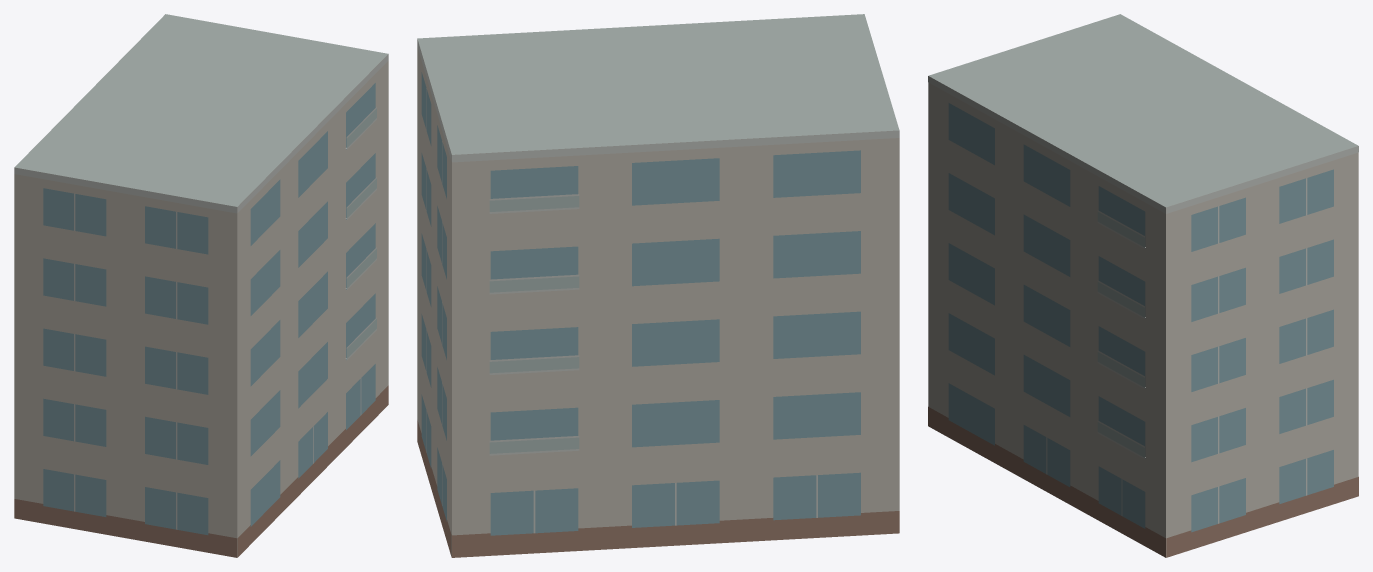
Rendered from survey-upis-32966021.glb.
The picture shows the model from 3 angles, left to right: view 1: azimuth 30°, elevation 25°; view 2: azimuth 150°, elevation 25°; view 3: azimuth 270°, elevation 25°; orthographic projection. The views are drawn at different scales.
Parts seen in each view (by area): view 1: survey-upis-32966021.tmp; view 2: survey-upis-32966021.tmp; view 3: survey-upis-32966021.tmp.
Boxes of the visible parts, box(x1,y1,x2,y2) form: survey-upis-32966021.tmp: box(14, 14, 388, 557); survey-upis-32966021.tmp: box(417, 14, 899, 557); survey-upis-32966021.tmp: box(928, 14, 1358, 557).
Size of the model in its own units: 15.49 by 13.07 by 14.57.
